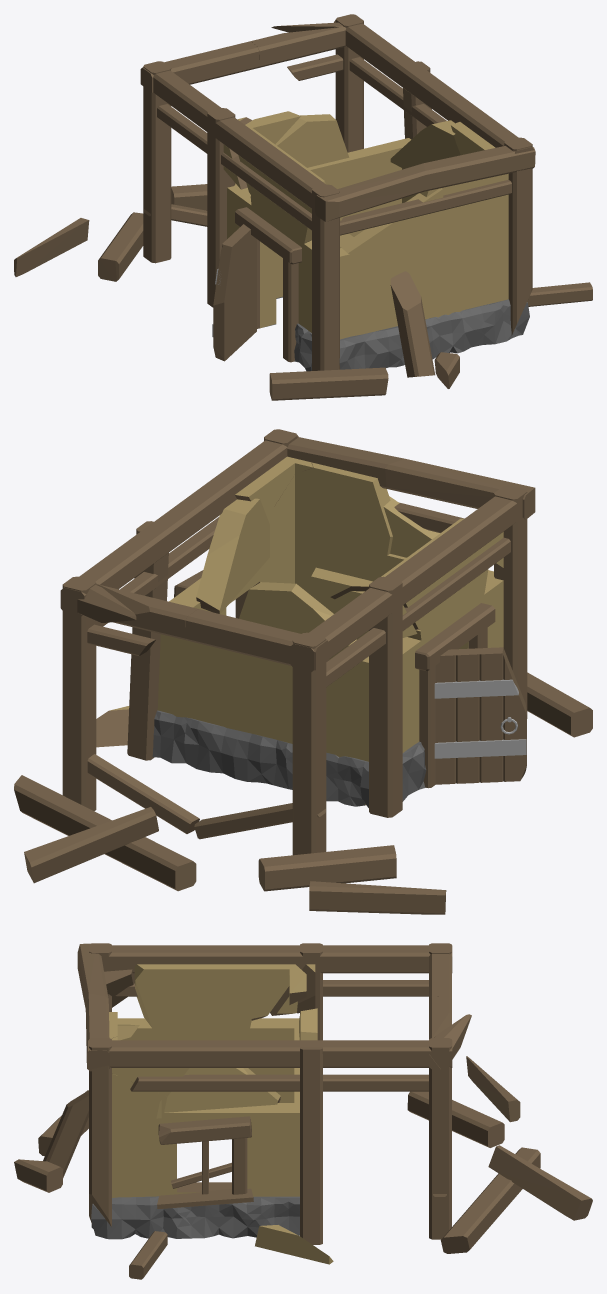
Rendered from Ruins 3.fbx.
The picture shows the model from 3 angles, top to bottom: view 1: azimuth 30°, elevation 25°; view 2: azimuth 150°, elevation 25°; view 3: azimuth 270°, elevation 25°; orthographic projection. The views are drawn at different scales.
Parts seen in each view (by area): view 1: House ruins 3; view 2: House ruins 3; view 3: House ruins 3.
Boxes of the visible parts, x1,y1,x2,y2 form: House ruins 3: [14, 14, 592, 400]; House ruins 3: [14, 429, 592, 914]; House ruins 3: [14, 943, 592, 1279].
Size of the model in its own units: 7.6 by 3.38 by 9.14.
